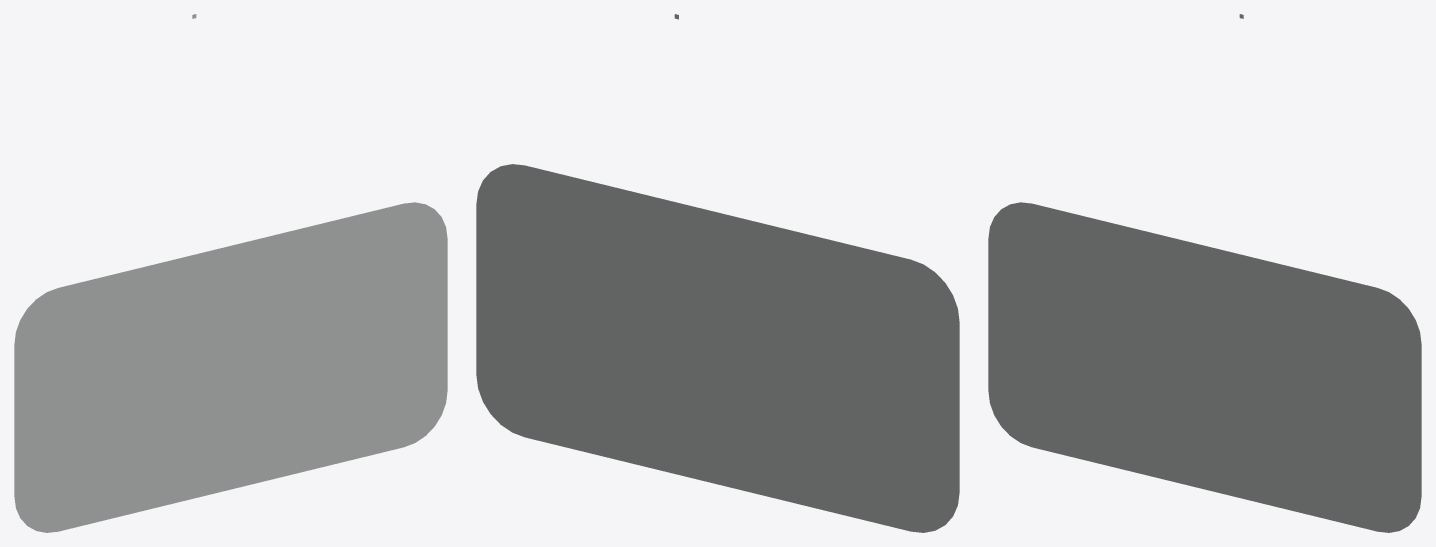
File: MainMeshLaptop_17_1_GeomSubset_2.obj
The picture shows the model from 3 angles, left to right: view 1: azimuth 30°, elevation 25°; view 2: azimuth 150°, elevation 25°; view 3: azimuth 330°, elevation 25°; orthographic projection. The views are drawn at different scales.
Visible parts, largest first — view 1: MainMeshLaptop_17_1_GeomSubset_2; view 2: MainMeshLaptop_17_1_GeomSubset_2; view 3: MainMeshLaptop_17_1_GeomSubset_2.
Boxes of the visible parts, x1=… form: MainMeshLaptop_17_1_GeomSubset_2: x1=14, y1=14, x2=447, y2=532; MainMeshLaptop_17_1_GeomSubset_2: x1=476, y1=14, x2=959, y2=532; MainMeshLaptop_17_1_GeomSubset_2: x1=988, y1=14, x2=1421, y2=532.
Bounding box in the file's own units: 0.1402 × 0.1386 × 0.0206.
